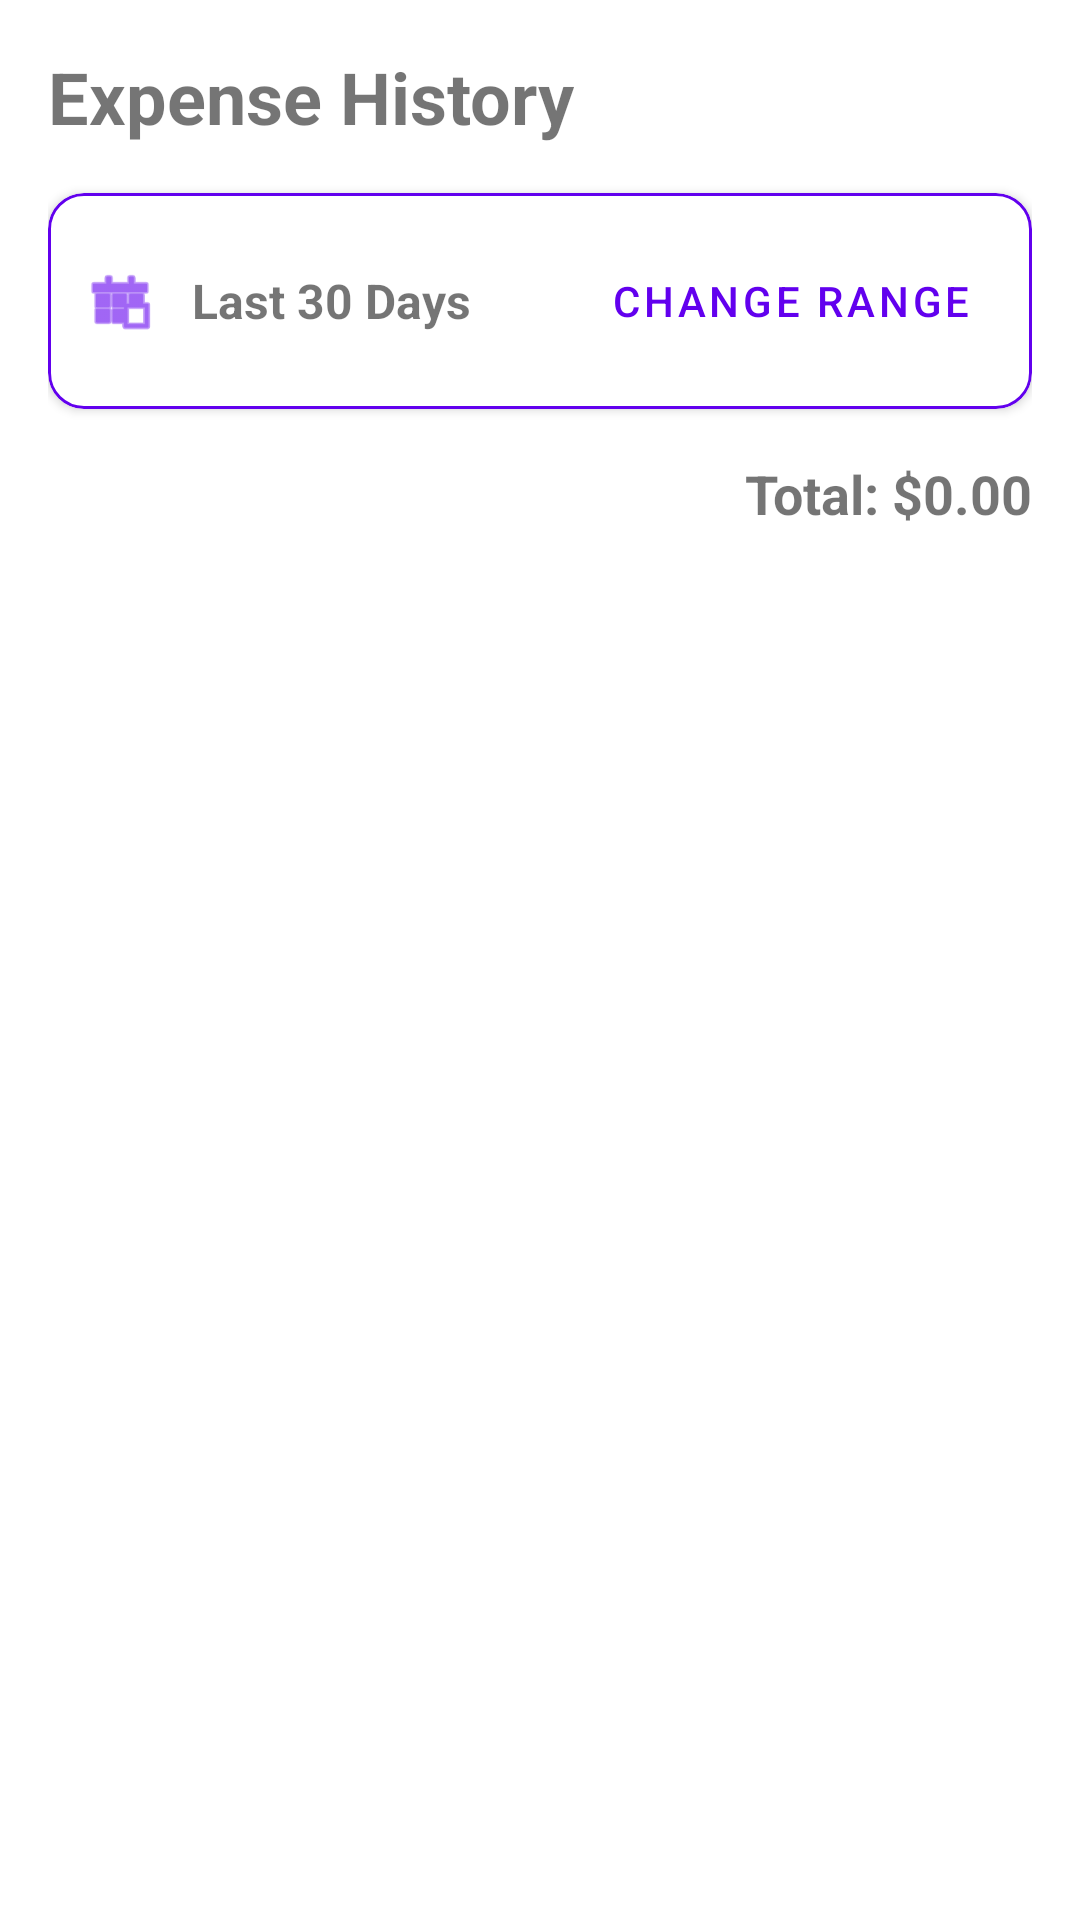

Icons on this 1080 × 1920 Android screen, each with the point to tap as (x=x, y=y):
today: (x=120, y=302)
